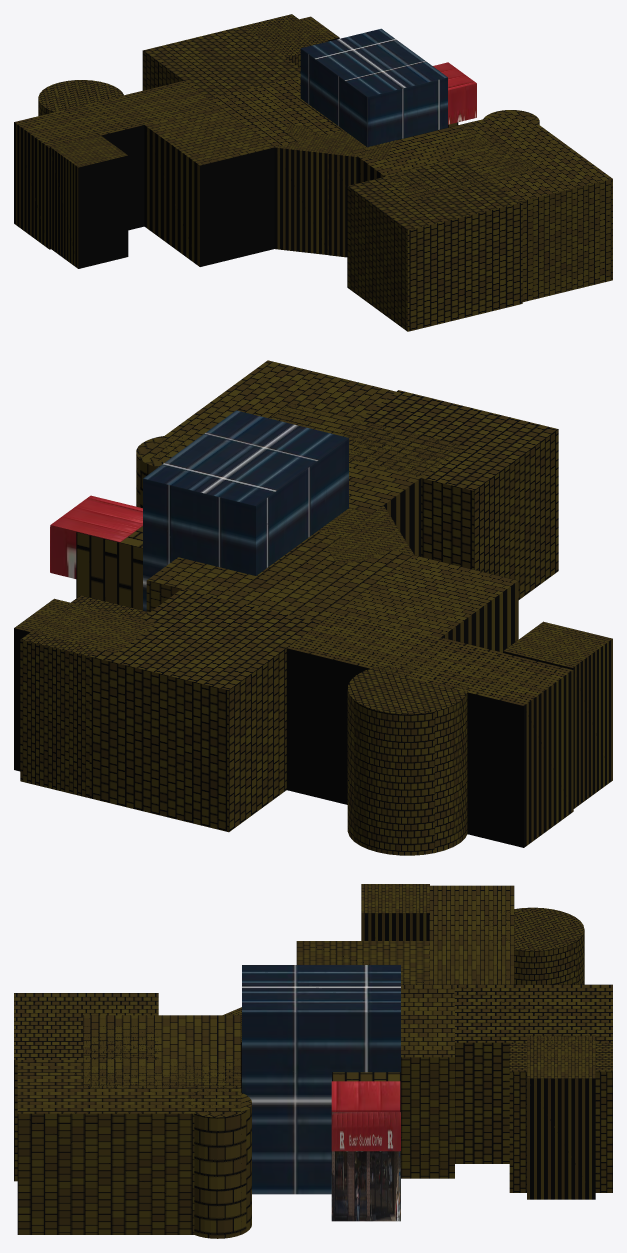
Rendered from bsc_blend.glb.
3 renders of one model, top to bottom at view 1: azimuth 30°, elevation 25°; view 2: azimuth 150°, elevation 25°; view 3: azimuth 270°, elevation 25°, orthographic. The views are drawn at different scales.
Parts seen in each view (by area): view 1: Cube.010, Cube, Cube.011, Cube.005, Cube.002, Cube.014, Cube.012, Cube.001, Cube.004, Cube.008, Cube.009, Cube.003 (+3 smaller); view 2: Cube.012, Cube.002, Cube.010, Cube.005, Cylinder, Cube.003, Cube.008, Cube, Cube.001, Cube.014, Cube.011, Cube.013 (+5 smaller); view 3: Cube.011, Cube.005, Cube.012, Cube.001, Cube.013, Cube.008, Cube.002, Cube.010, Cylinder.001, Cube.003, Cylinder, Plane.001 (+5 smaller).
Boxes of the visible parts, x1=… form: Cube.010: x1=347, y1=158, x2=522, y2=331; Cube: x1=144, y1=106, x2=274, y2=266; Cube.011: x1=455, y1=110, x2=612, y2=302; Cube.005: x1=300, y1=28, x2=447, y2=147; Cube.002: x1=14, y1=80, x2=219, y2=249; Cube.014: x1=49, y1=134, x2=128, y2=268; Cube.012: x1=142, y1=26, x2=300, y2=98; Cube.001: x1=351, y1=121, x2=540, y2=199; Cube.004: x1=274, y1=124, x2=344, y2=254; Cube.008: x1=210, y1=76, x2=343, y2=147; Cube.009: x1=328, y1=131, x2=396, y2=257; Cube.003: x1=242, y1=14, x2=328, y2=68; Cube.012: x1=89, y1=589, x2=319, y2=832; Cube.002: x1=286, y1=612, x2=573, y2=847; Cube.010: x1=338, y1=390, x2=558, y2=599; Cube.005: x1=143, y1=410, x2=348, y2=611; Cylinder: x1=347, y1=663, x2=468, y2=855; Cube.003: x1=20, y1=595, x2=149, y2=797; Cube.008: x1=146, y1=531, x2=412, y2=622; Cube: x1=336, y1=555, x2=518, y2=652; Cube.001: x1=270, y1=403, x2=464, y2=556; Cube.014: x1=503, y1=621, x2=612, y2=808; Cube.011: x1=137, y1=360, x2=395, y2=506; Cube.013: x1=14, y1=598, x2=155, y2=771; Cube.011: x1=17, y1=1059, x2=241, y2=1234; Cube.005: x1=242, y1=965, x2=400, y2=1194; Cube.012: x1=454, y1=984, x2=612, y2=1163; Cube.001: x1=83, y1=1015, x2=241, y2=1087; Cube.013: x1=527, y1=1035, x2=595, y2=1199; Cube.008: x1=401, y1=984, x2=454, y2=1178; Cube.002: x1=429, y1=885, x2=514, y2=984; Cube.010: x1=14, y1=993, x2=158, y2=1181; Cylinder.001: x1=184, y1=1089, x2=251, y2=1238; Cube.003: x1=509, y1=1042, x2=612, y2=1192; Cylinder: x1=481, y1=907, x2=584, y2=984; Plane.001: x1=331, y1=1151, x2=400, y2=1221.
Size of the model in its own units: 47.57 by 17.39 by 51.9.
19 materials, 19 textured.
